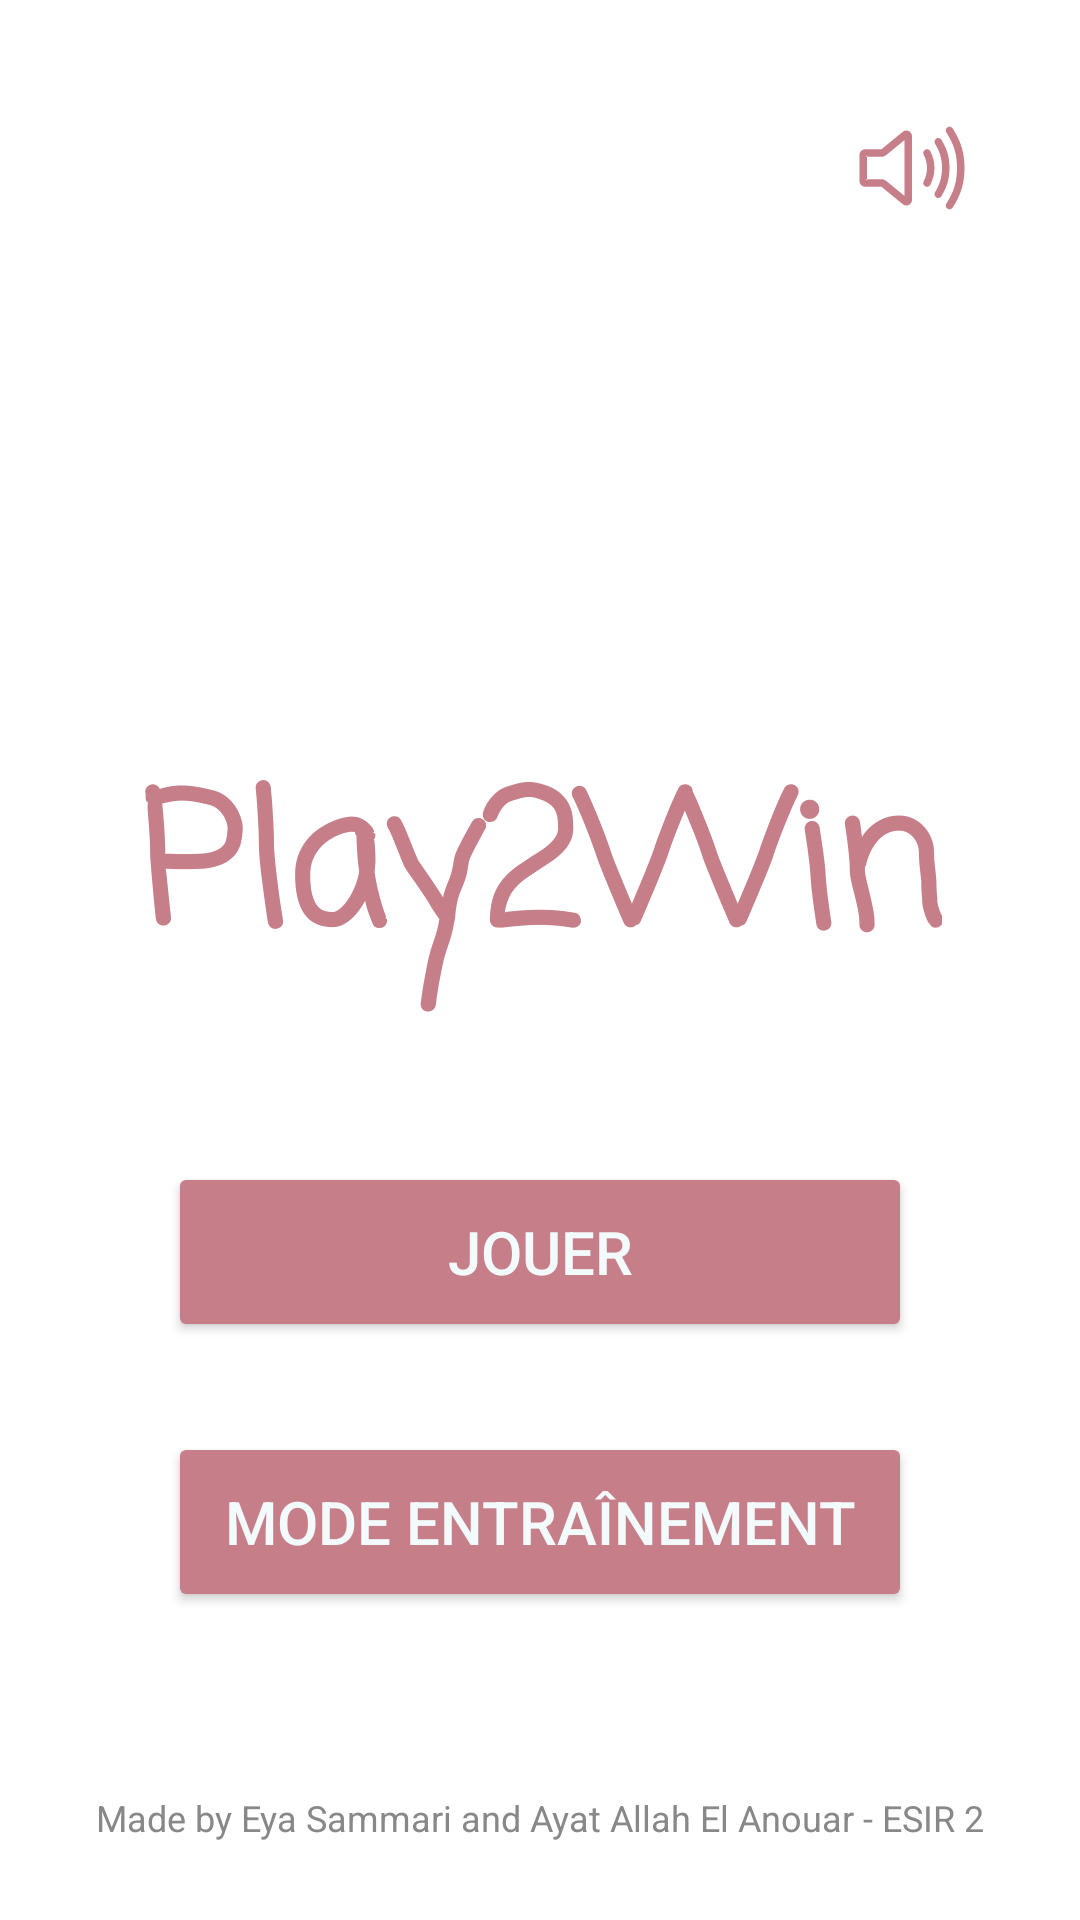

Screen size 1080w x 1920h. Icon name, then its box in pixels as {"x1": x1, "y1": y1, "x2": x2, "y2": y2}:
Toggle Sound: {"x1": 859, "y1": 126, "x2": 965, "y2": 210}
